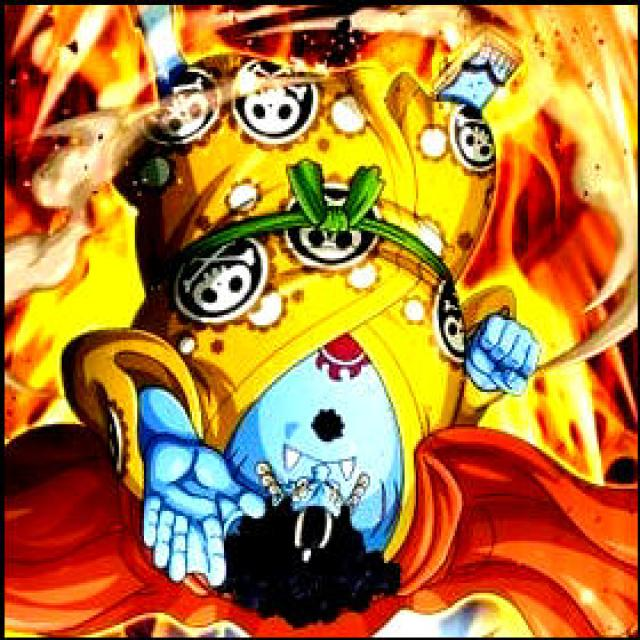Jinbe: (5, 7, 635, 640)
